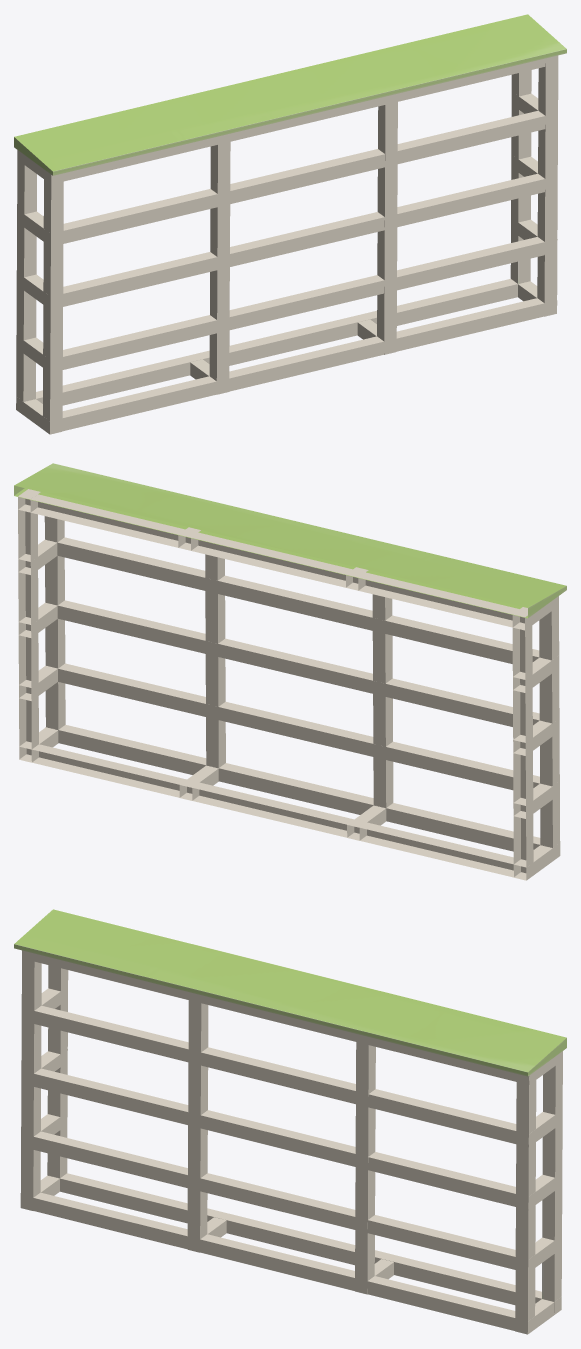
File: Grid_Sandra_1.glb
3 views of the same model, one above another, from view 1: azimuth 30°, elevation 25°; view 2: azimuth 150°, elevation 25°; view 3: azimuth 330°, elevation 25° (orthographic).
Parts seen in each view (by area): view 1: Grid.sandra1; view 2: Grid.sandra1; view 3: Grid.sandra1.
Boxes of the visible parts, x1=… form: Grid.sandra1: x1=14, y1=14, x2=566, y2=434; Grid.sandra1: x1=14, y1=463, x2=566, y2=880; Grid.sandra1: x1=14, y1=909, x2=566, y2=1334.
Bounding box in the file's own units: 3.1 × 1.59 × 0.4081.
1 material, 1 textured.
